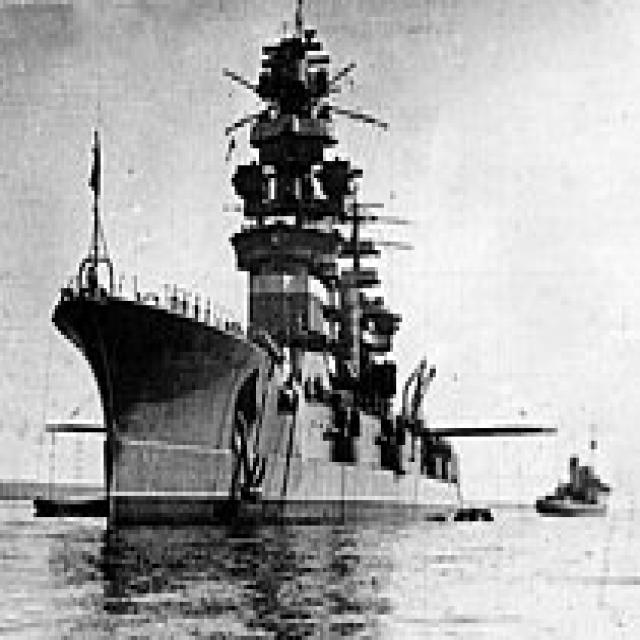boat: (38, 229, 492, 527)
